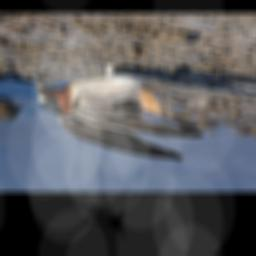Swallow: (35, 52, 204, 160)
